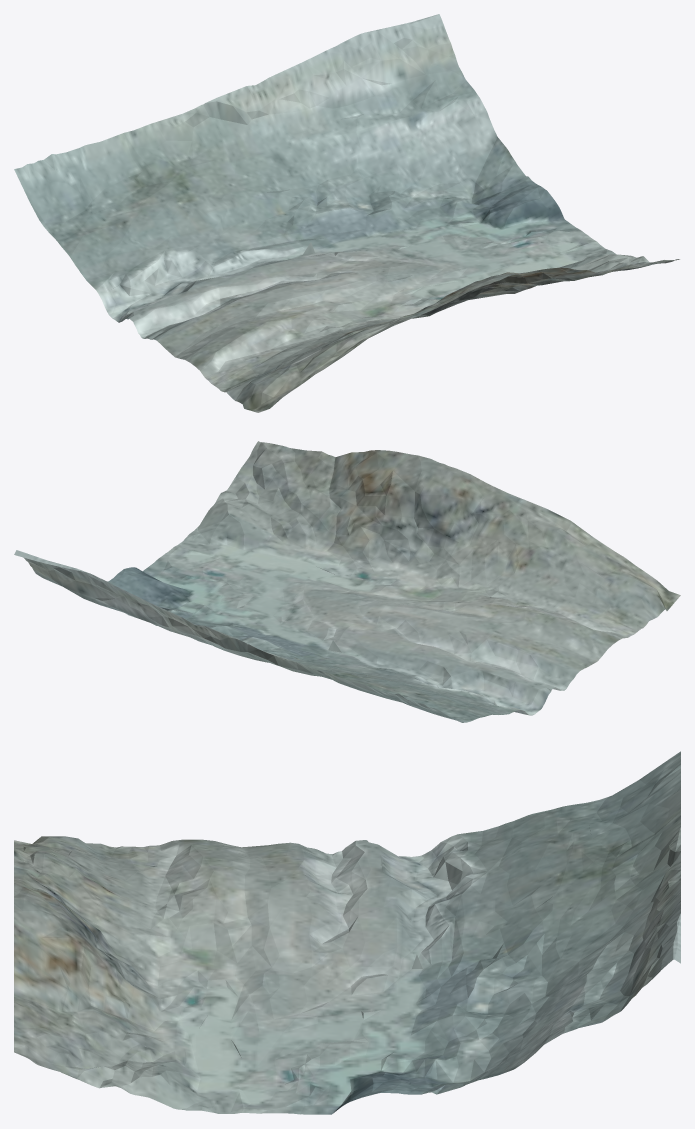
The picture shows the model from 3 angles, top to bottom: view 1: azimuth 30°, elevation 25°; view 2: azimuth 150°, elevation 25°; view 3: azimuth 270°, elevation 25°; orthographic projection. The views are drawn at different scales.
Visible parts, largest first — view 1: Plane; view 2: Plane; view 3: Plane.
Boxes of the visible parts, x1,y1,x2,y2 form: Plane: (14,14,679,412); Plane: (14,441,680,722); Plane: (14,751,680,1114).
Bounding box in the file's own units: 0.6 × 0.1778 × 0.6.
Materials: 1 (1 with a texture image).
